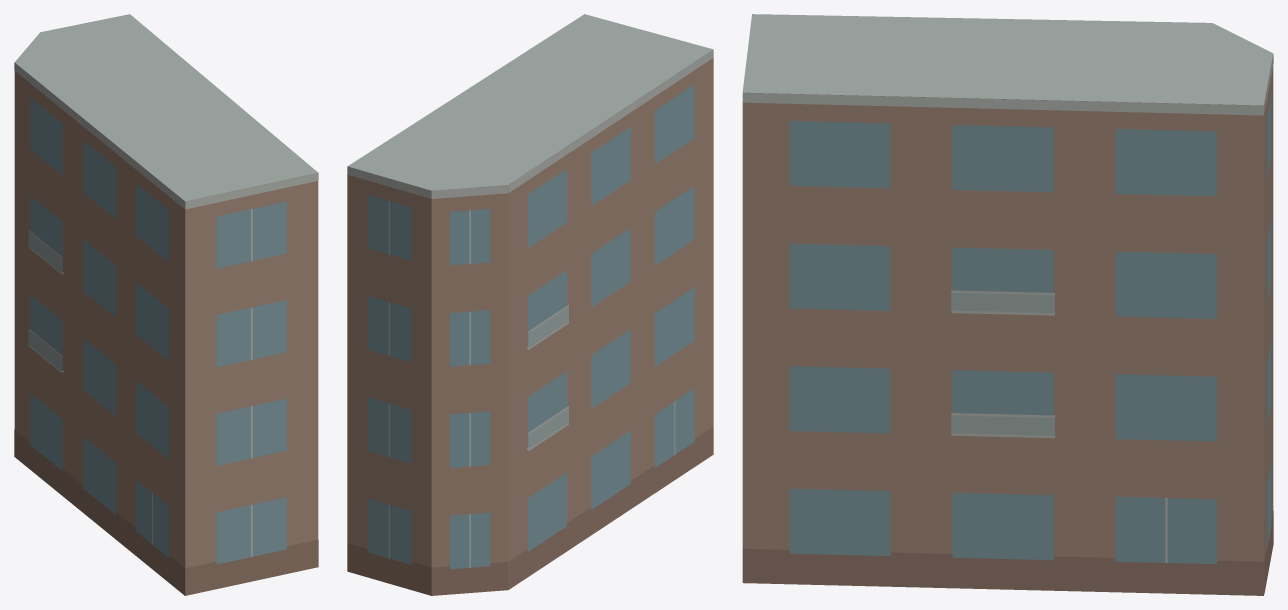
File: survey-upis-32460638.glb
3 renders of one model, left to right at view 1: azimuth 30°, elevation 25°; view 2: azimuth 150°, elevation 25°; view 3: azimuth 270°, elevation 25°, orthographic. The views are drawn at different scales.
Parts seen in each view (by area): view 1: survey-upis-32460638.tmp; view 2: survey-upis-32460638.tmp; view 3: survey-upis-32460638.tmp.
Part boxes in pixels (left/top/right/bottom): survey-upis-32460638.tmp: left=14, top=14, right=318, bottom=595; survey-upis-32460638.tmp: left=347, top=14, right=713, bottom=595; survey-upis-32460638.tmp: left=742, top=14, right=1273, bottom=595.
Size of the model in its own units: 4.77 by 11.9 by 11.69.
